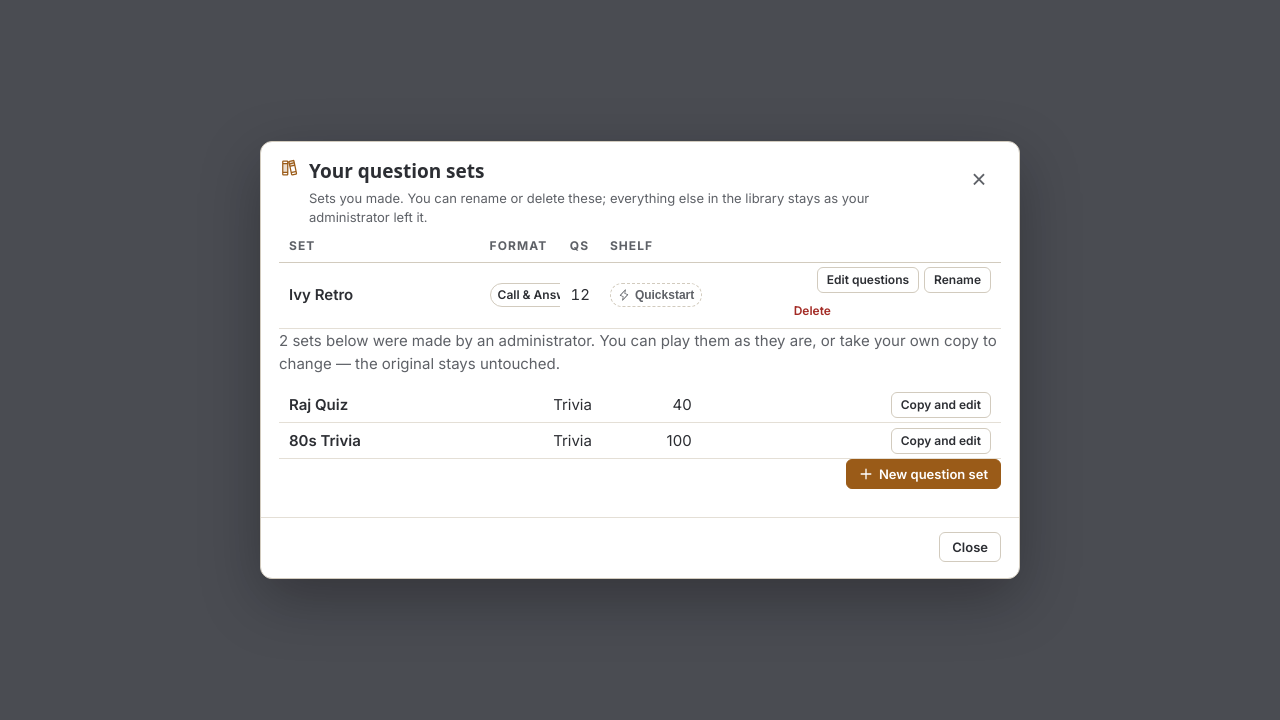
a host edits the questions in a set they own › it opens the console editor itself, with the set’s real questions
Click the button "Edit questions" at (868, 280), box [817,267,919,293]
(page scrolled)
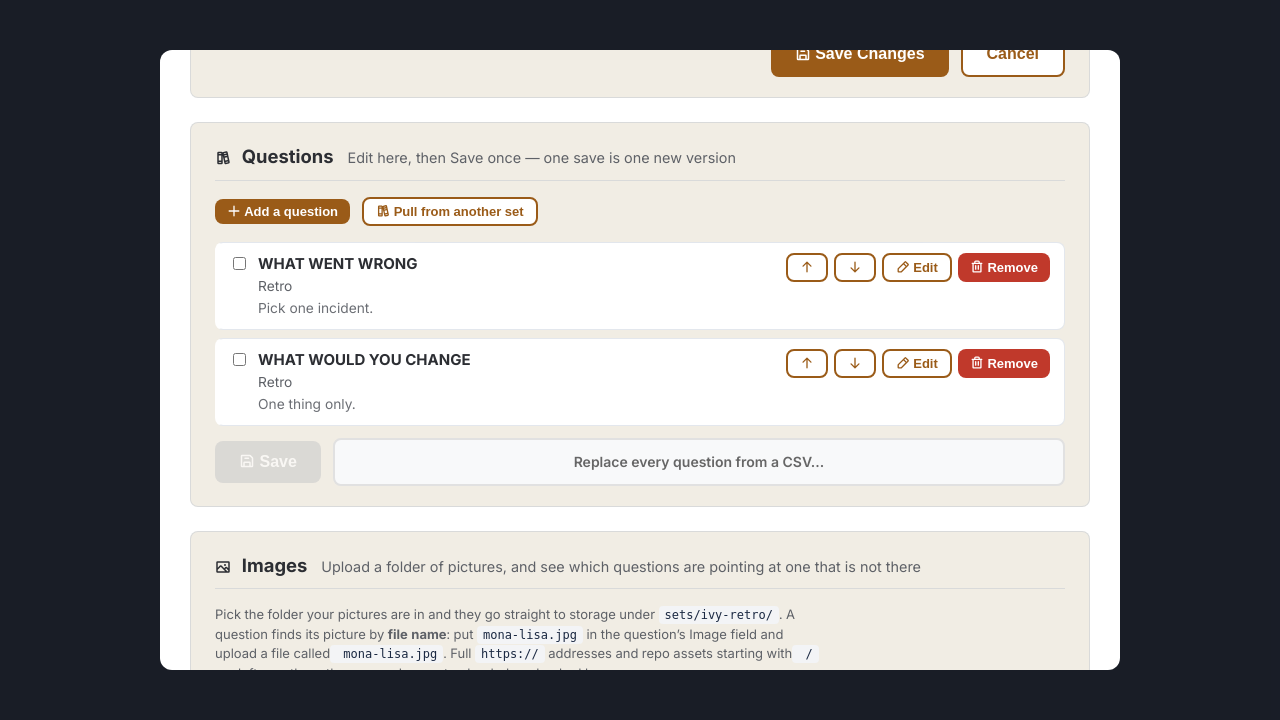
expect the list item with test id "question-0" is shown: met, box [215,242,1065,330]
expect the text "WHAT WENT WRONG" is shown: met, box [258,253,418,275]
expect the text "WHAT WOULD YOU CHANGE" is shown: met, box [258,349,470,371]
